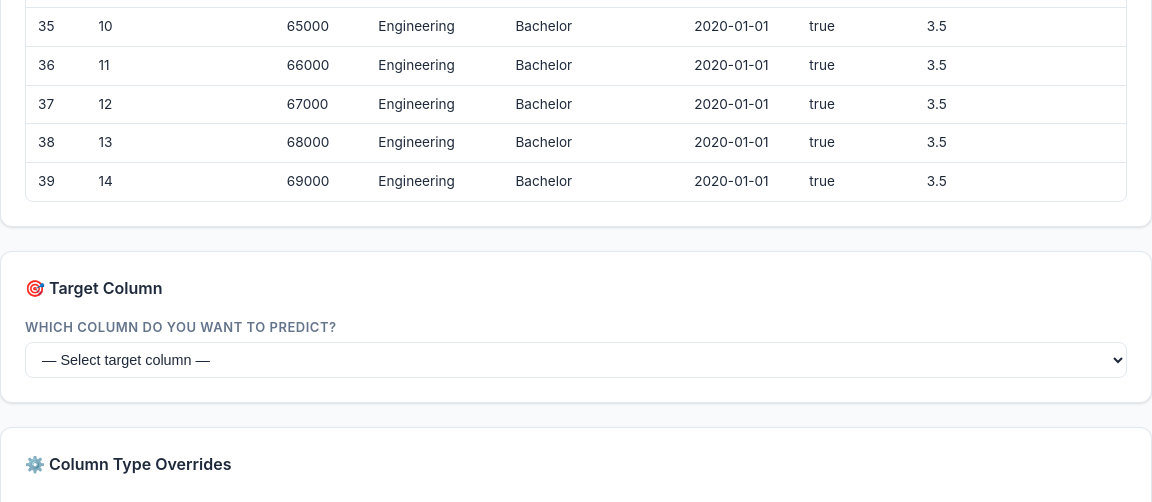
Test: ColumnConfigForm › shows error when datetime column is selected as target
(page scrolled)
Note: Select the datetime column as target
Select "hire_date (datetime)" in the dropdown labelled "Which column do you want to predict?" at (576, 360), box [25,342,1127,378]
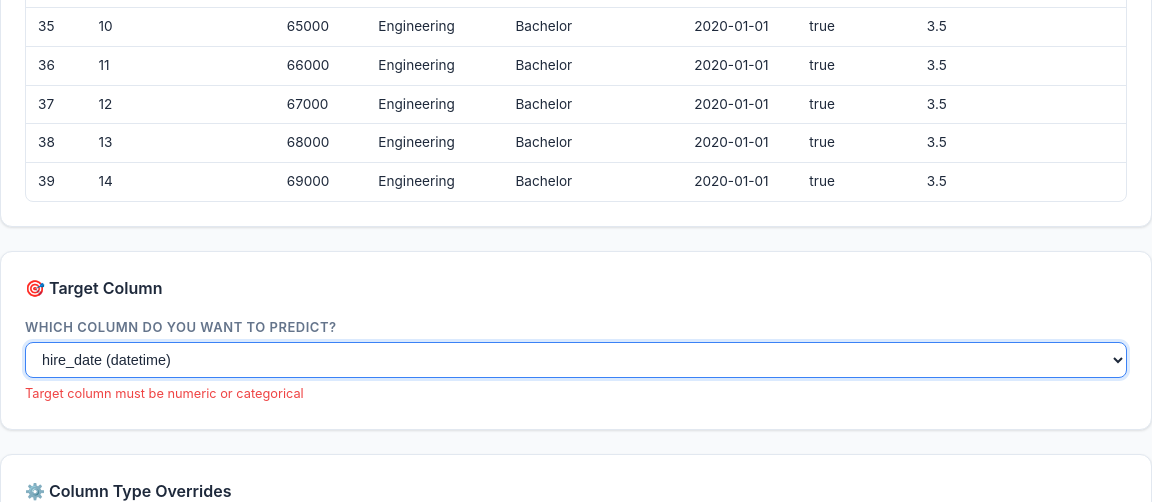
Check: the message shows "must be numeric or categorical", box [25,386,304,401]
